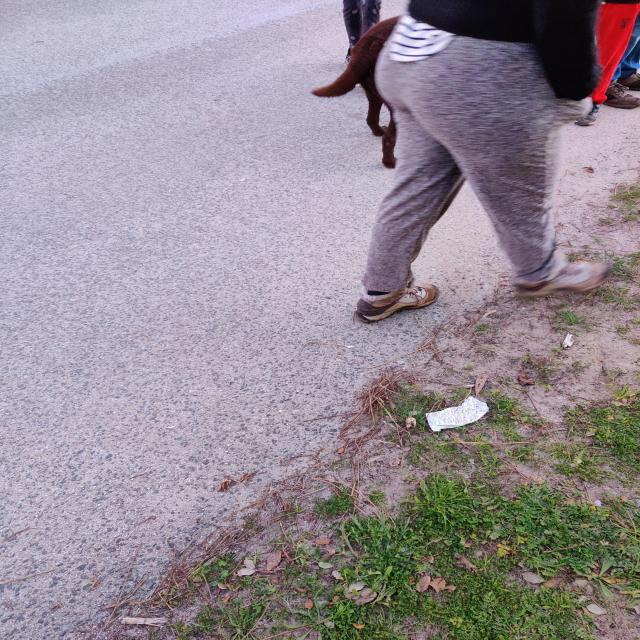litter: (425, 396, 489, 432), (563, 334, 574, 350)
